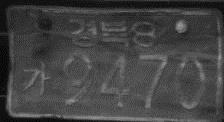0: (172, 53, 206, 111)
4: (99, 52, 133, 110)
7: (137, 52, 169, 111)
8: (131, 19, 158, 50)
9: (60, 52, 97, 109)
가: (20, 60, 51, 96)
경북_O: (67, 17, 129, 50)
